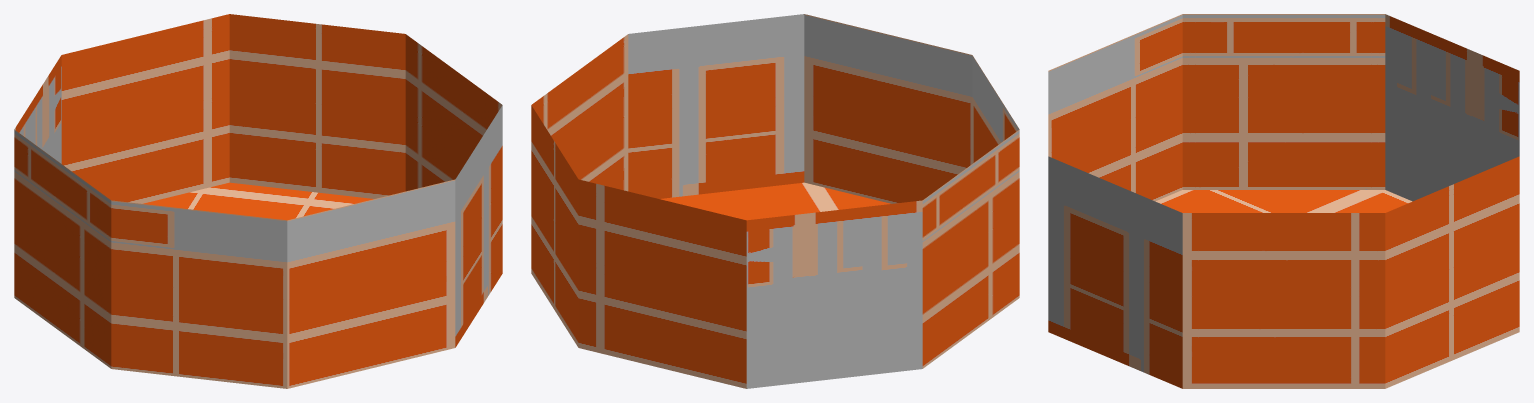
Rendered from boş_kat.fbx.
The picture shows the model from 3 angles, left to right: view 1: azimuth 30°, elevation 25°; view 2: azimuth 150°, elevation 25°; view 3: azimuth 270°, elevation 25°; orthographic projection. The views are drawn at different scales.
Visible parts, largest first — view 1: Cube.002; view 2: Cube.002; view 3: Cube.002.
Boxes of the visible parts, <box> form: Cube.002: <box>14,14,502,388</box>; Cube.002: <box>531,14,1019,388</box>; Cube.002: <box>1048,14,1519,388</box>.
Size of the model in its own units: 200 by 82.36 by 200.
